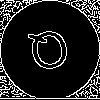Q: (25, 25, 75, 81)
